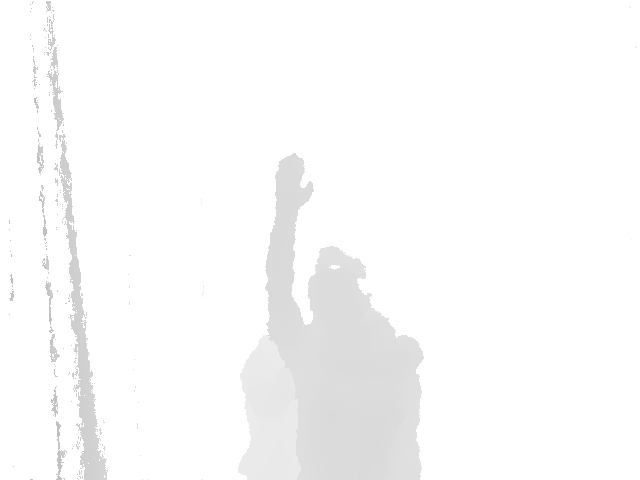hand: (272, 153, 315, 210)
head: (304, 263, 371, 322)
person: (261, 151, 432, 480)
